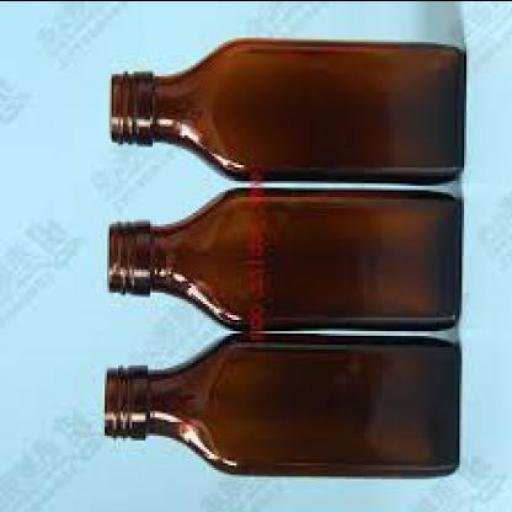glass: (102, 330, 460, 476), (110, 38, 464, 182), (108, 187, 457, 327)
